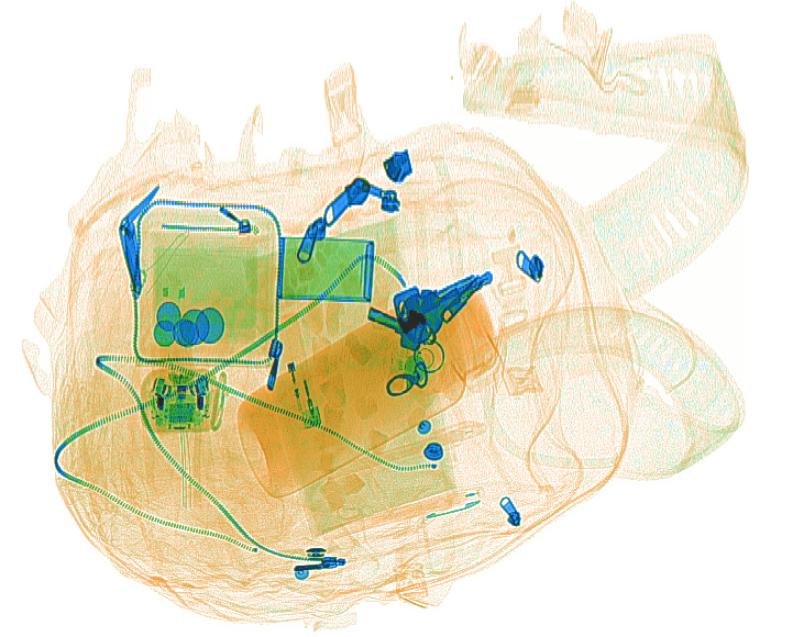lighter: (272, 308, 321, 430)
